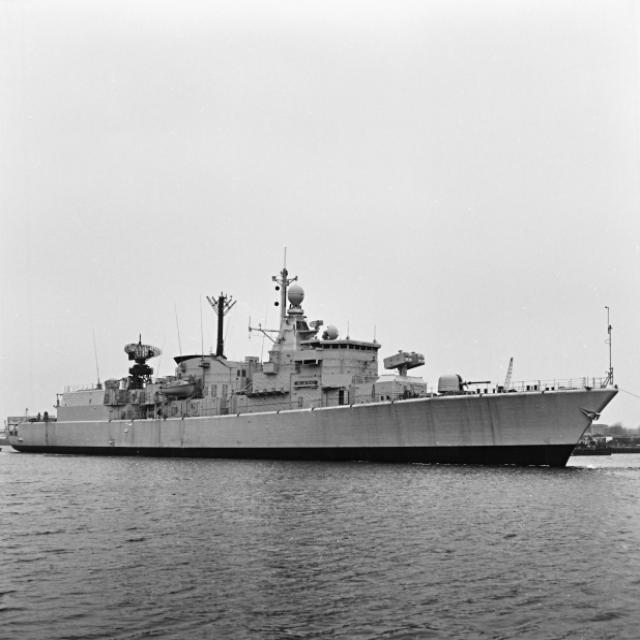Fragata: (4, 245, 627, 472)
